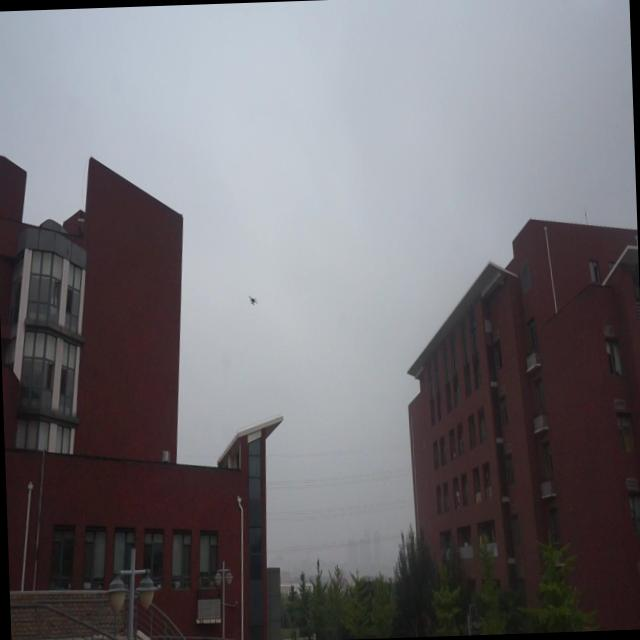drone: (246, 290, 259, 310)
